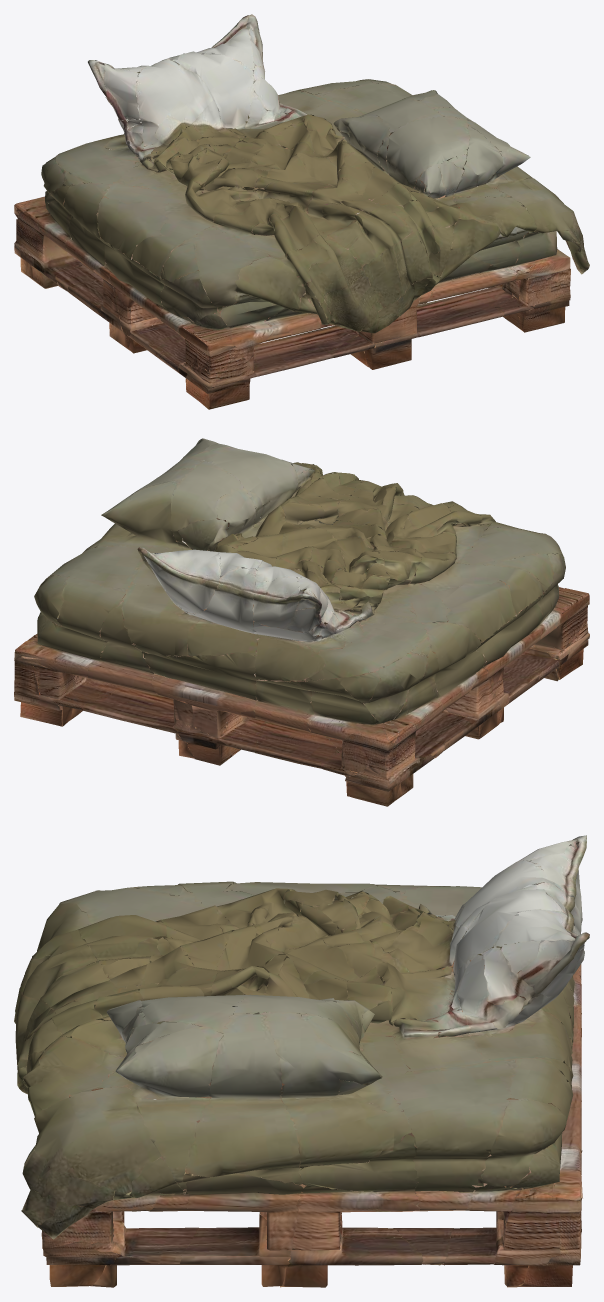
The model's file is Worker_pallet_bed_thick_mattress_wool_blanket-game-v2.glb.
3 views of the same model, one above another, from view 1: azimuth 30°, elevation 25°; view 2: azimuth 150°, elevation 25°; view 3: azimuth 270°, elevation 25° (orthographic). The views are drawn at different scales.
Visible parts, largest first — view 1: Mesh_0; view 2: Mesh_0; view 3: Mesh_0.
Boxes of the visible parts, box(x1,y1,x2,y2) form: Mesh_0: box(14, 14, 589, 409); Mesh_0: box(14, 438, 589, 806); Mesh_0: box(14, 835, 589, 1287).
Bounding box in the file's own units: 1.9 × 0.9344 × 1.77.
Materials: 1 (1 with a texture image).
